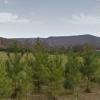Tree: (12, 38, 83, 100)
